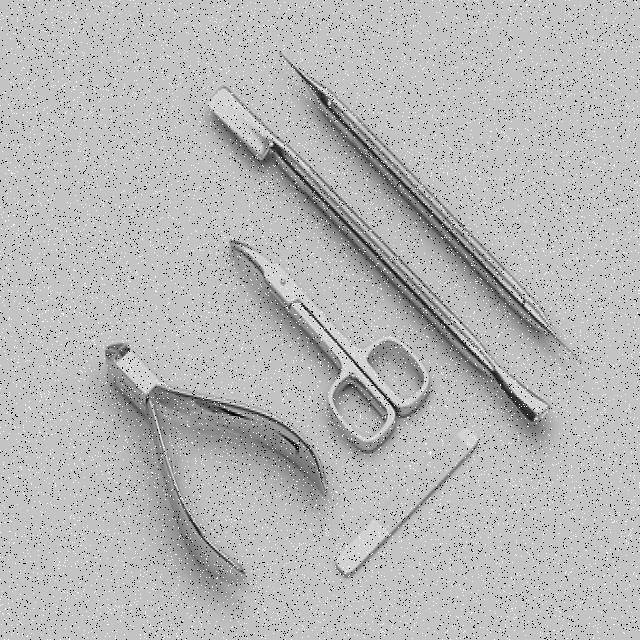scissors: (208, 196, 450, 477)
